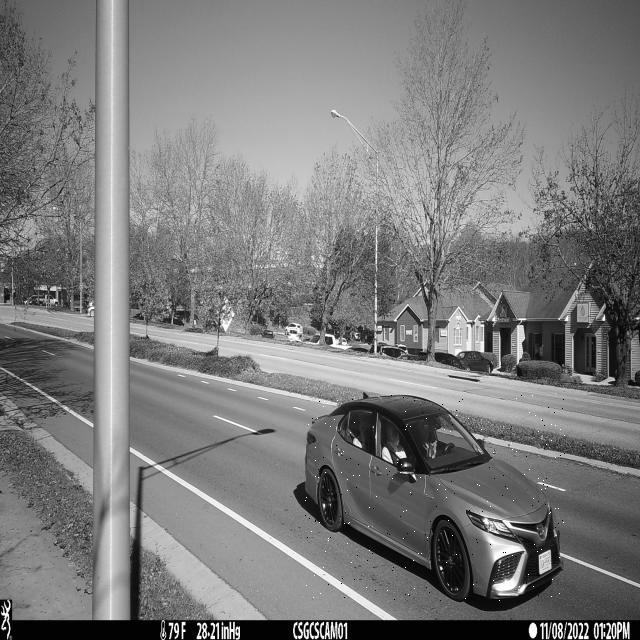Sedan: (305, 395, 566, 602)
